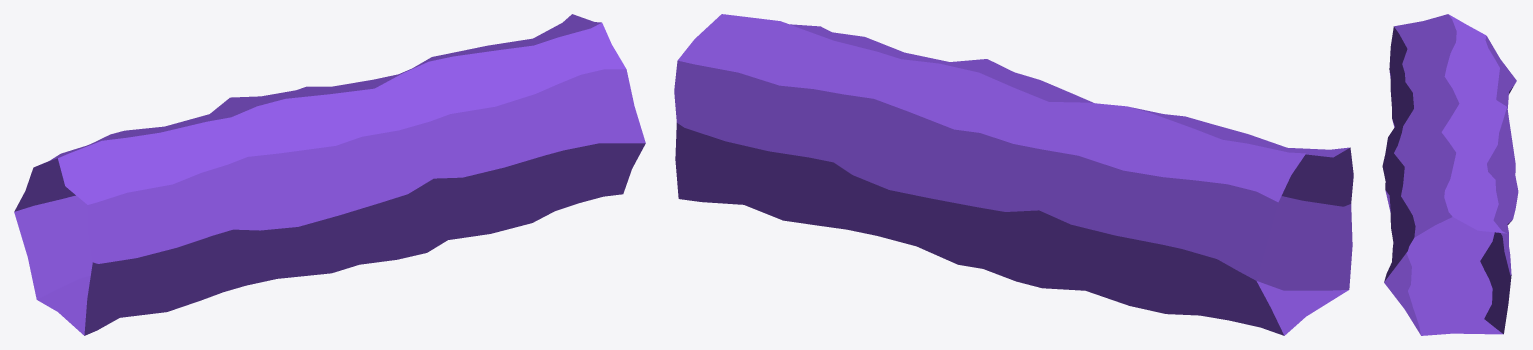
Rendered from timetunnel1-inside.glb.
3 views of the same model, side by side, from view 1: azimuth 30°, elevation 25°; view 2: azimuth 150°, elevation 25°; view 3: azimuth 270°, elevation 25° (orthographic). The views are drawn at different scales.
Parts seen in each view (by area): view 1: TimeTunnel.inside; view 2: TimeTunnel.inside; view 3: TimeTunnel.inside.
Boxes of the visible parts, x1=… form: TimeTunnel.inside: x1=14, y1=14, x2=645, y2=335; TimeTunnel.inside: x1=674, y1=14, x2=1353, y2=335; TimeTunnel.inside: x1=1382, y1=14, x2=1518, y2=335.
Size of the model in its own units: 16.49 by 4.42 by 4.52.
